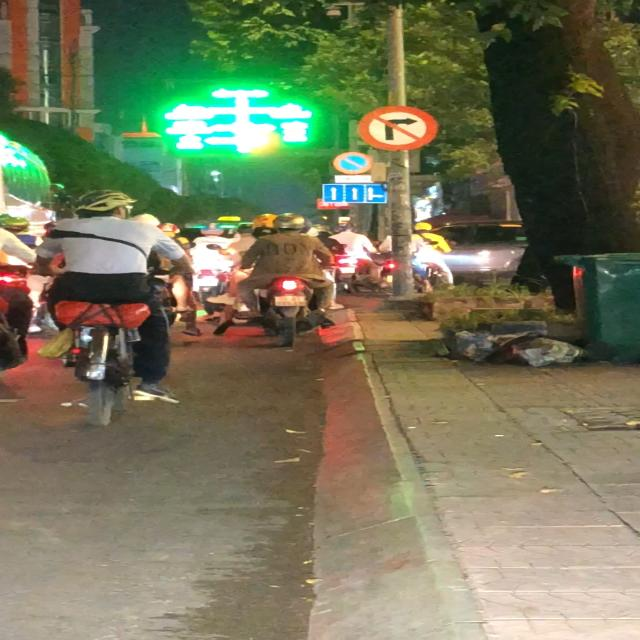Bien bao cam re phai: (356, 104, 439, 152)
